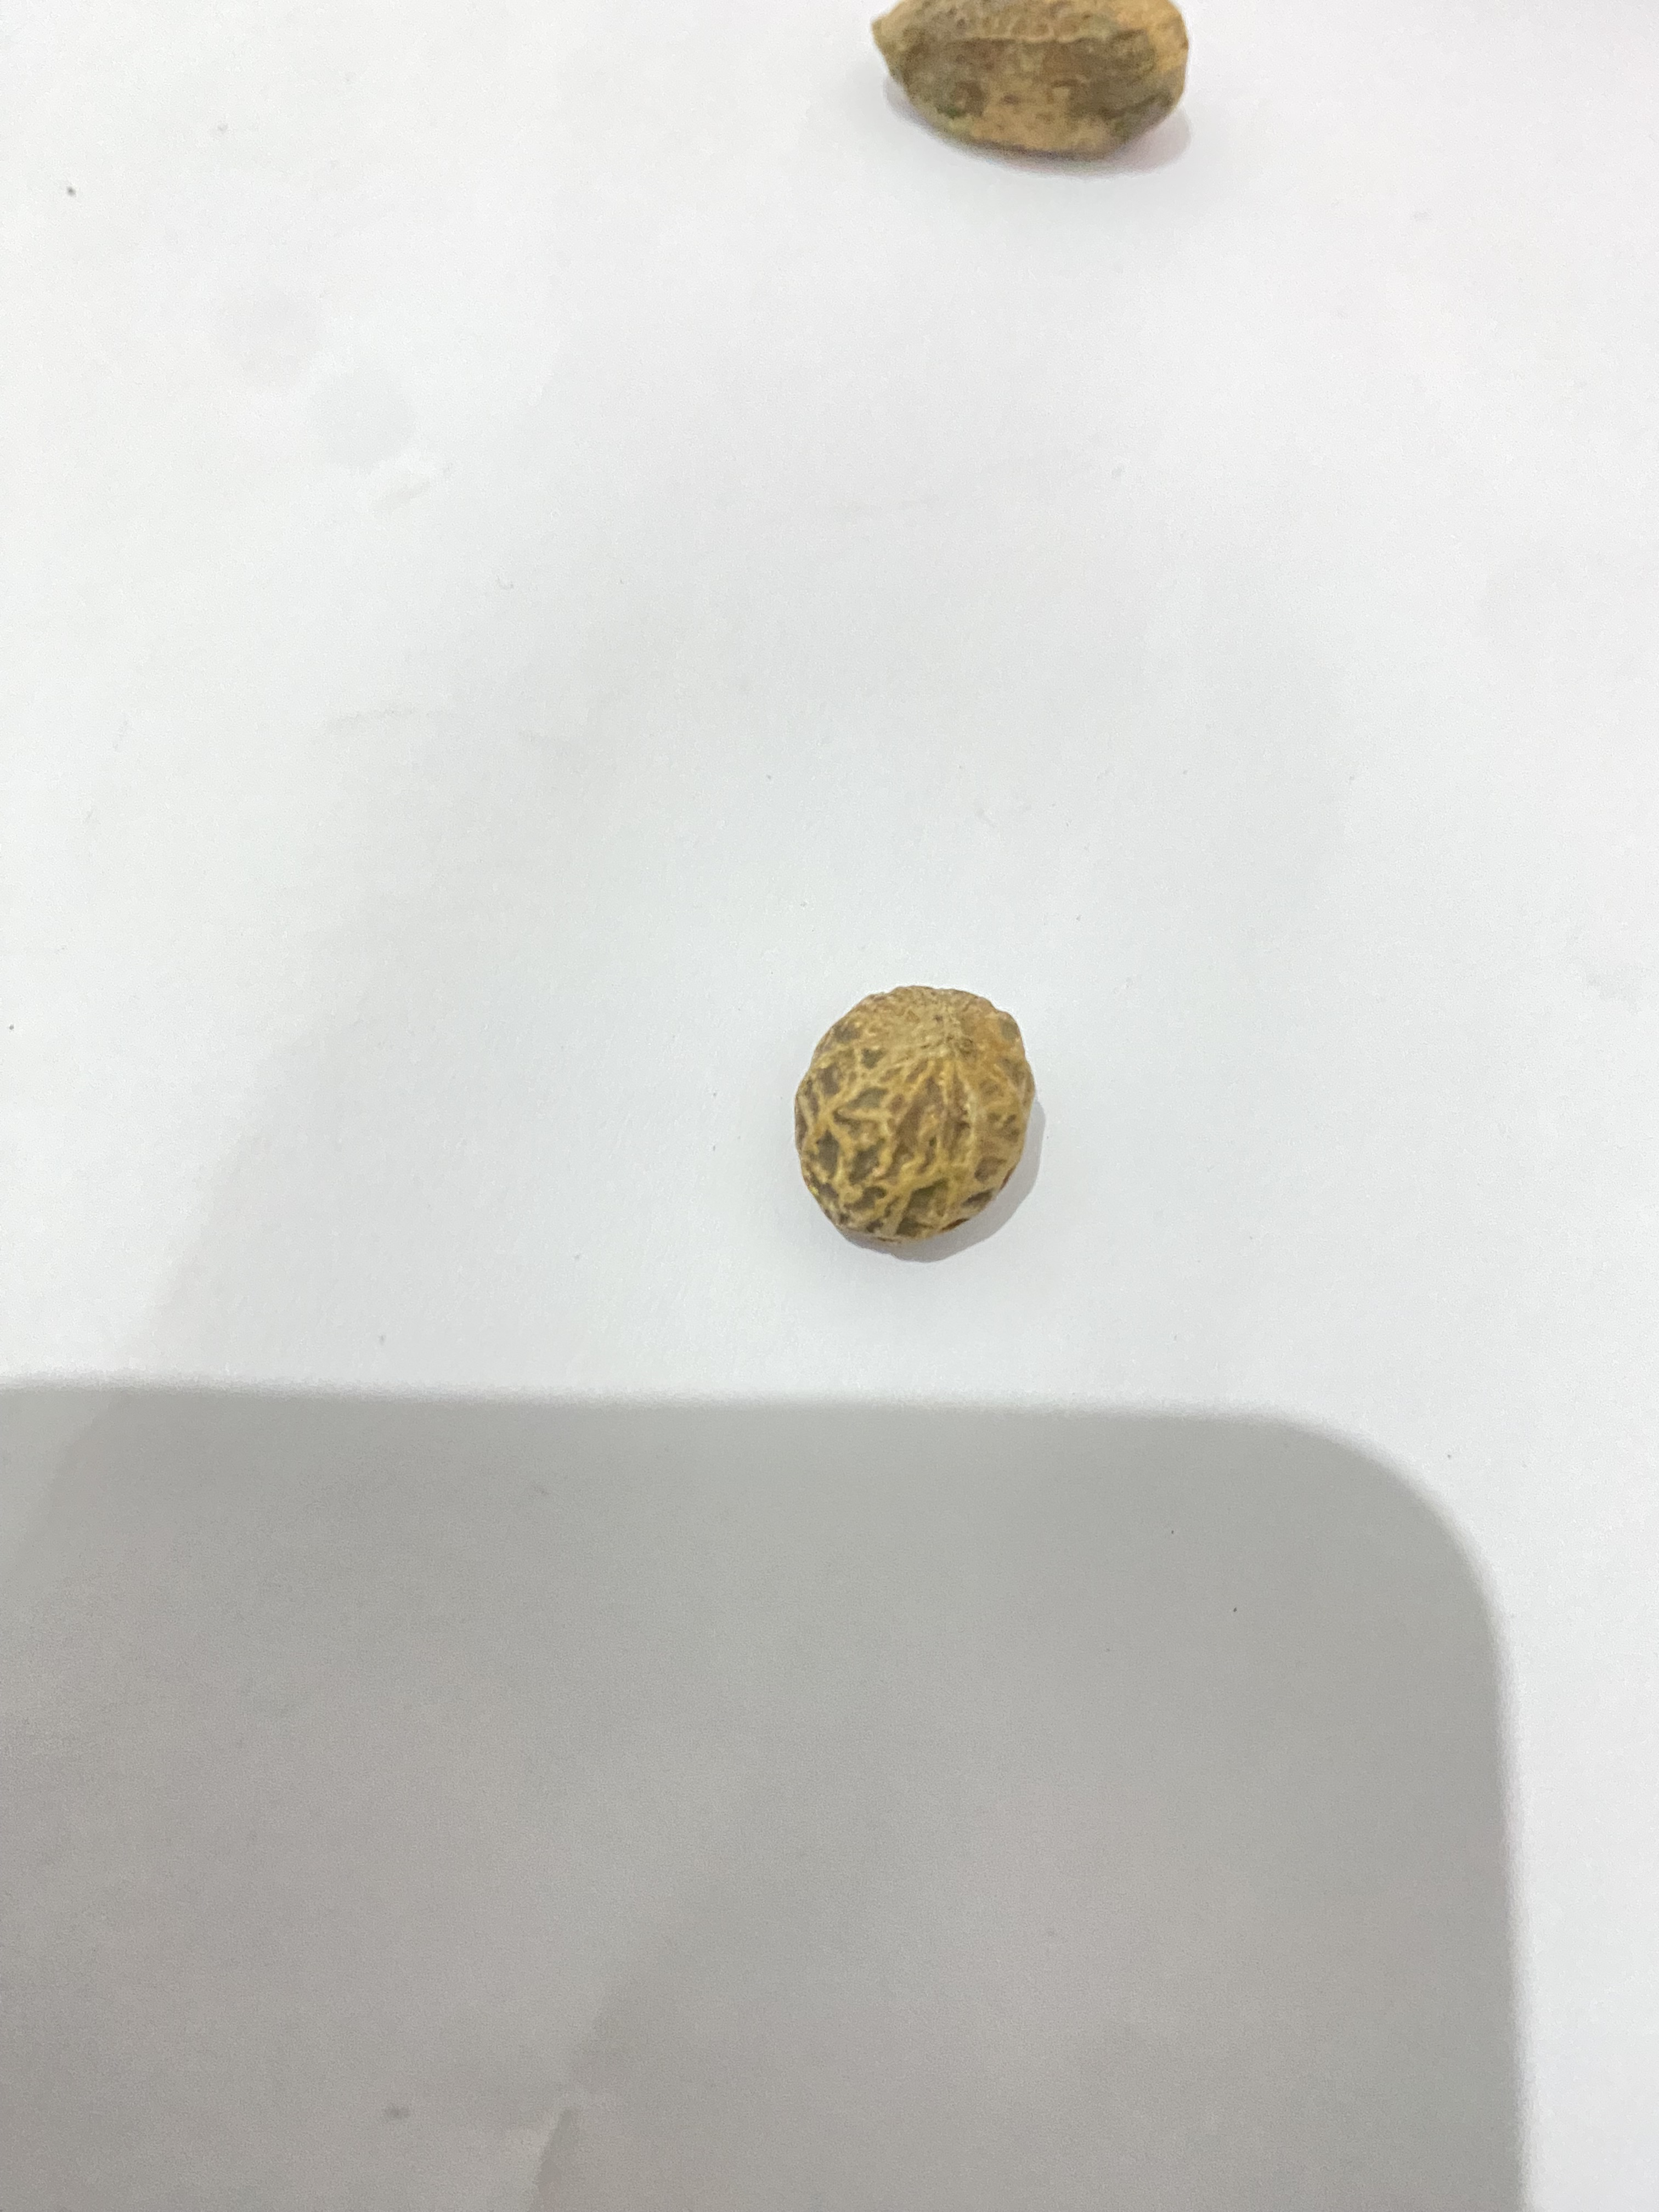kacang1: (742, 972, 1105, 1280)
